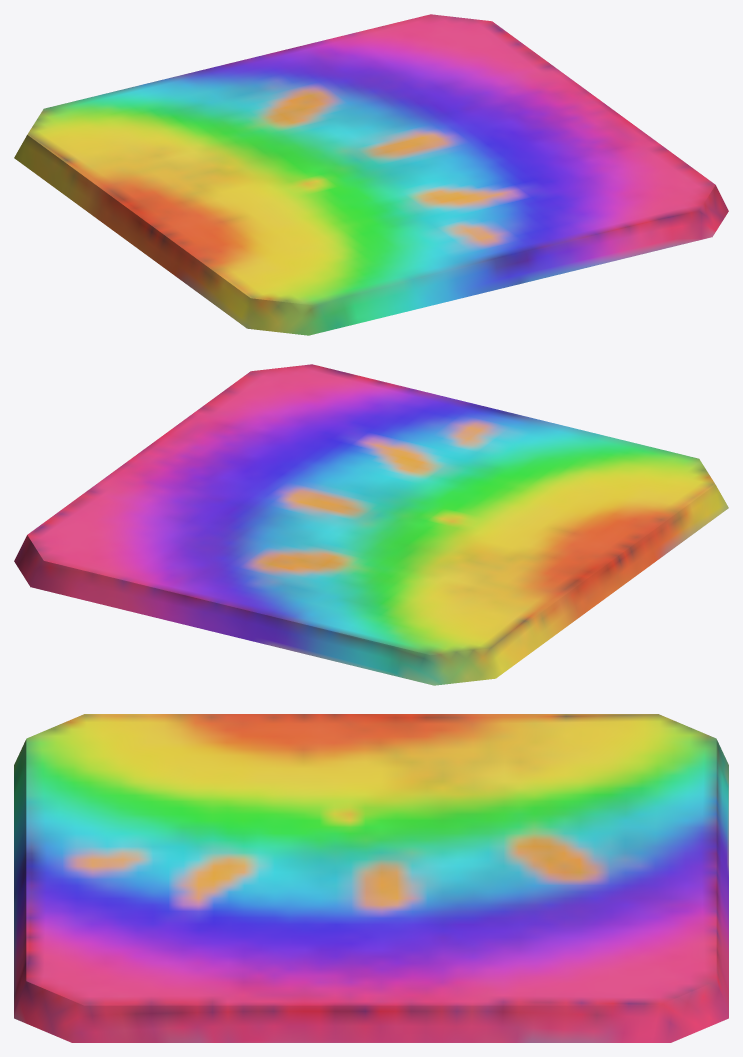
File: SM_Magnets_12.fbx
3 views of the same model, one above another, from view 1: azimuth 30°, elevation 25°; view 2: azimuth 150°, elevation 25°; view 3: azimuth 270°, elevation 25° (orthographic). The views are drawn at different scales.
Visible parts, largest first — view 1: SM_Magnets_12_LOD0; view 2: SM_Magnets_12_LOD0; view 3: SM_Magnets_12_LOD0.
Part boxes in pixels (<box>): SM_Magnets_12_LOD0: <box>14,14,728,335</box>; SM_Magnets_12_LOD0: <box>14,364,728,685</box>; SM_Magnets_12_LOD0: <box>14,714,728,1042</box>.
Bounding box in the file's own units: 10 × 10 × 0.4929.
Materials: 1 (1 with a texture image).
